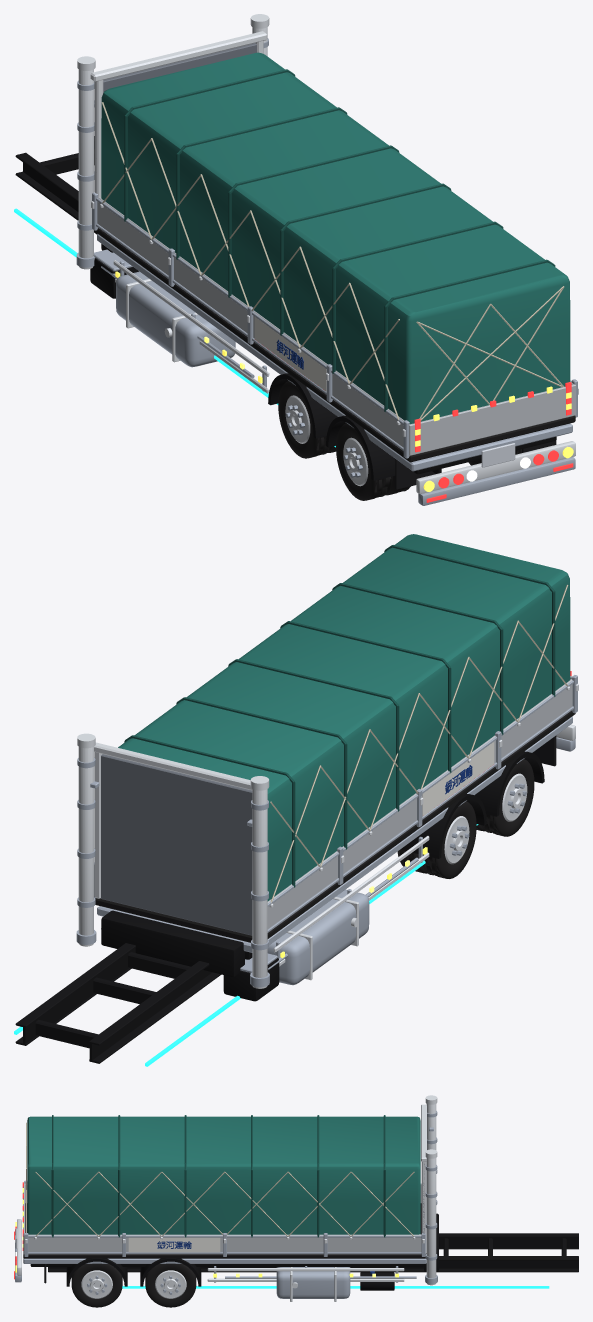
The model's file is body_tarp.glb.
3 views of the same model, one above another, from view 1: azimuth 30°, elevation 25°; view 2: azimuth 150°, elevation 25°; view 3: azimuth 270°, elevation 25° (orthographic). The views are drawn at different scales.
Parts seen in each view (by area): view 1: truck_tarp, truck_box_alu, truck_steel, truck_chrome, frame_plastic_black, truck_tarp_dark, frame_steel, truck_rope, truck_plastic_trim, wheel_r_L_1.5_1.06, wheel_r_L_3.0_1.06, truck_mesh_perf (+6 smaller); view 2: truck_tarp, truck_mesh_perf, frame_plastic_black, truck_chrome, truck_steel, truck_tarp_dark, truck_box_alu, truck_plastic_black, frame_steel, truck_plastic_trim, truck_rope, wheel_r_L_3.0_1.06 (+3 smaller); view 3: truck_tarp, frame_plastic_black, truck_box_alu, truck_steel, truck_chrome, frame_steel, truck_plastic_trim, truck_tarp_dark, wheel_r_R_1.5_1.06, wheel_r_R_3.0_1.06, truck_rope, truck_band_white (+1 smaller).
Boxes of the visible parts, <box> form: truck_tarp: <box>101,52,570,424</box>; truck_box_alu: <box>97,196,575,455</box>; truck_steel: <box>76,38,577,505</box>; truck_chrome: <box>77,14,578,493</box>; frame_plastic_black: <box>15,136,556,480</box>; truck_tarp_dark: <box>124,69,555,411</box>; frame_steel: <box>93,249,254,378</box>; truck_rope: <box>101,102,564,420</box>; truck_plastic_trim: <box>94,228,575,462</box>; wheel_r_L_1.5_1.06: <box>336,423,392,500</box>; wheel_r_L_3.0_1.06: <box>278,380,331,458</box>; truck_mesh_perf: <box>103,43,256,92</box>; truck_tarp: <box>118,534,570,901</box>; truck_mesh_perf: <box>100,754,252,935</box>; frame_plastic_black: <box>15,751,544,1063</box>; truck_chrome: <box>77,683,578,988</box>; truck_steel: <box>76,675,577,987</box>; truck_tarp_dark: <box>124,545,555,887</box>; truck_box_alu: <box>267,676,572,928</box>; truck_plastic_black: <box>101,910,244,976</box>; frame_steel: <box>101,857,418,985</box>; truck_plastic_trim: <box>95,710,575,942</box>; truck_rope: <box>270,584,568,903</box>; wheel_r_L_3.0_1.06: <box>422,801,476,878</box>; truck_tarp: <box>27,1116,420,1234</box>; frame_plastic_black: <box>30,1233,578,1290</box>; truck_box_alu: <box>23,1183,421,1254</box>; truck_steel: <box>15,1111,437,1284</box>; truck_chrome: <box>17,1095,437,1285</box>; frame_steel: <box>225,1267,416,1298</box>; truck_plastic_trim: <box>23,1203,426,1258</box>; truck_tarp_dark: <box>51,1115,385,1237</box>; wheel_r_R_1.5_1.06: <box>71,1263,122,1307</box>; wheel_r_R_3.0_1.06: <box>145,1263,196,1307</box>; truck_rope: <box>26,1122,414,1236</box>; truck_band_white: <box>128,1237,220,1252</box>.
Bounding box in the file's own units: 2.85 × 3.55 × 11.49.
Materials: 20 (3 with a texture image).
